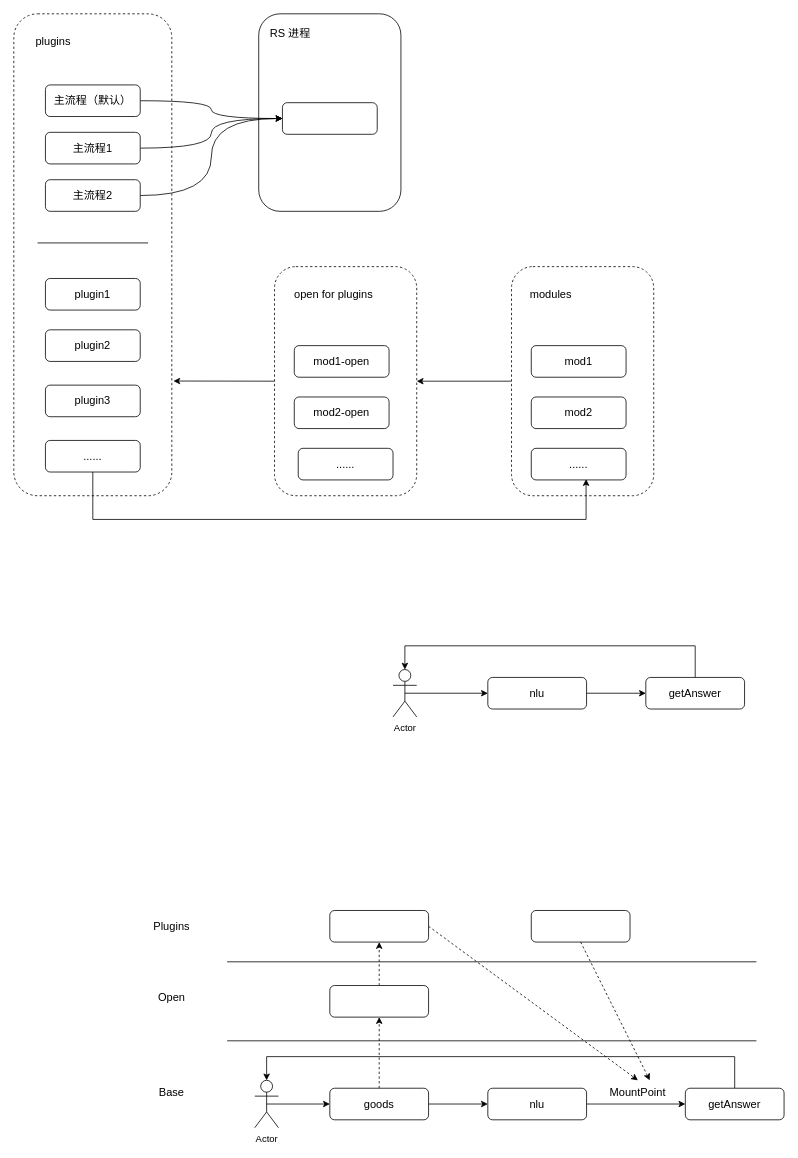
Some shapes in this 798 by 1158 pixel diagram are drawn without their labels. Each missing label, with the centre of its shape:
"focusGoods" goes at point (379, 1001).
"plugin mod" goes at point (580, 926).
"spec logic" goes at point (379, 926).
"主流程挂载点" goes at point (329, 118).
